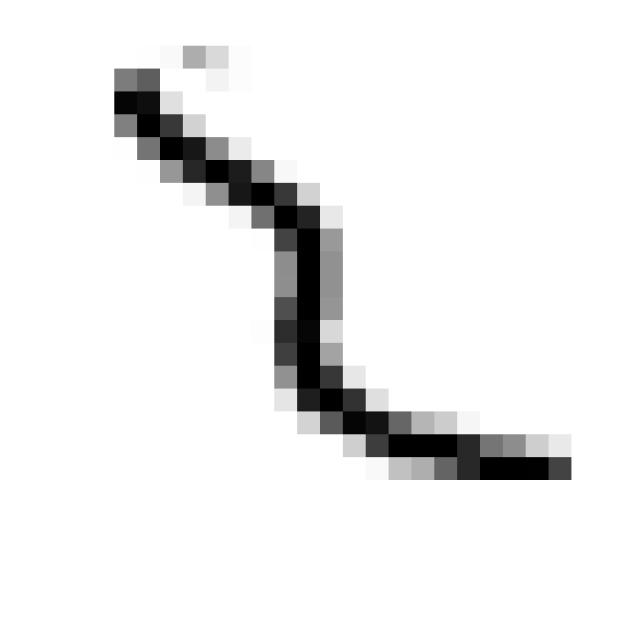4 -four-: (93, 21, 594, 498)
